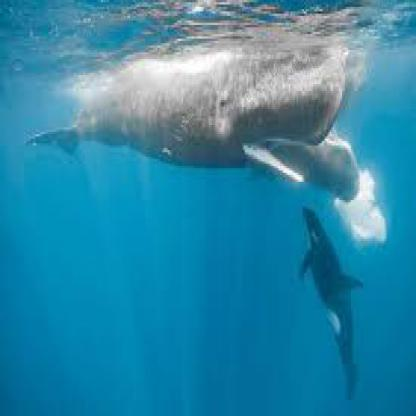sperm_whale: (60, 38, 354, 196), (294, 191, 369, 409)
